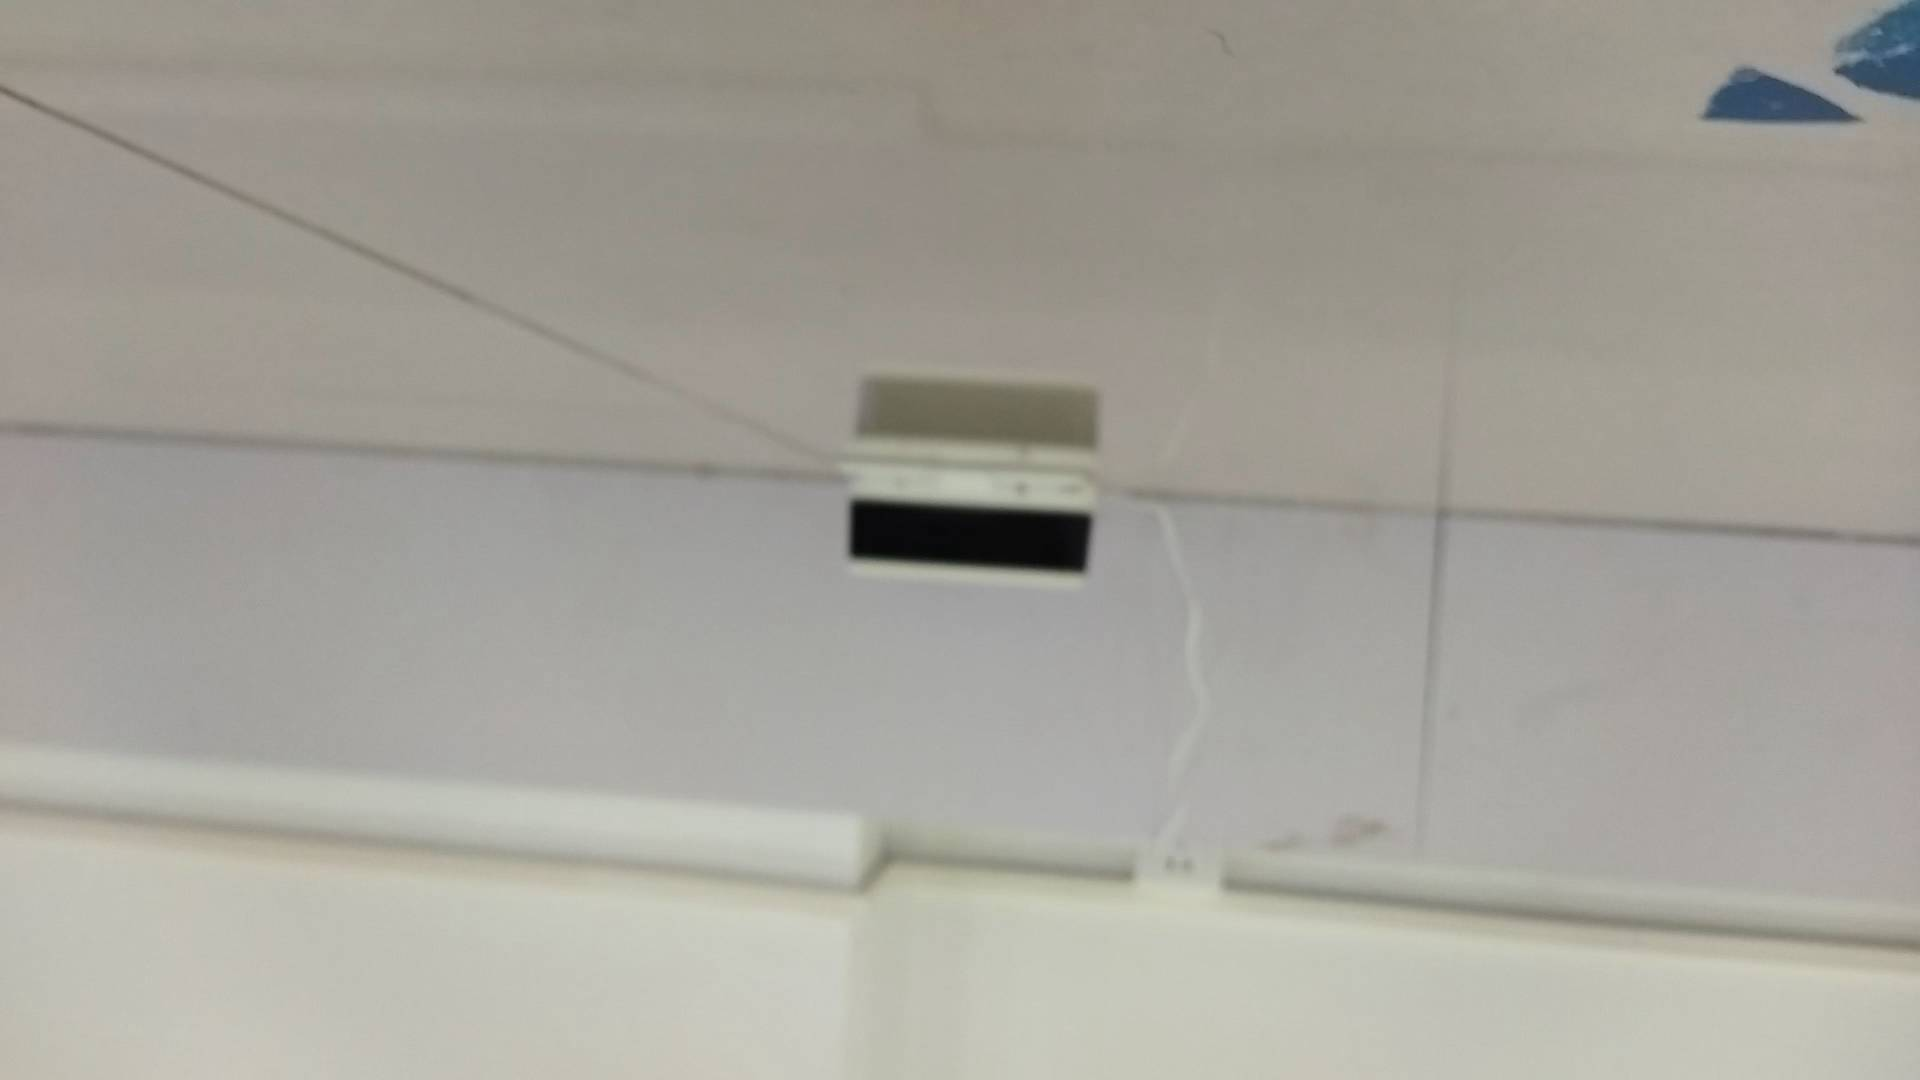recharge seat: (816, 433, 1104, 587)
